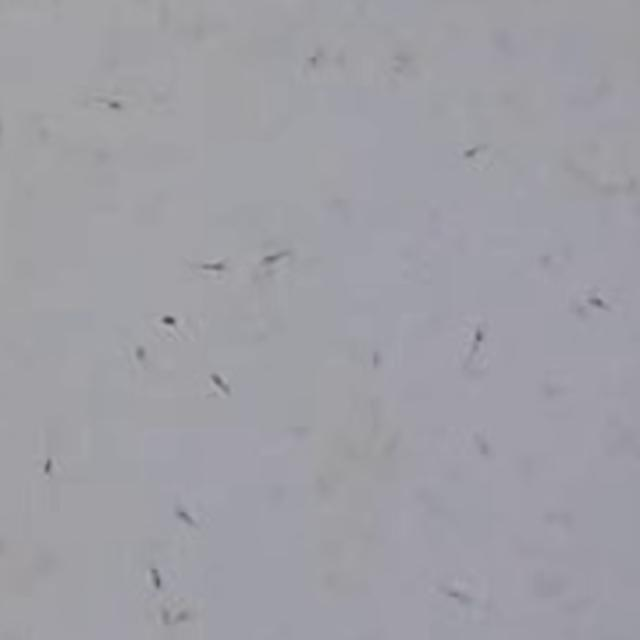shrimp-seed: (167, 486, 224, 544), (112, 332, 160, 378), (208, 363, 247, 418), (574, 275, 617, 320), (85, 83, 134, 119), (254, 242, 306, 274), (34, 449, 68, 494), (295, 38, 334, 75), (461, 133, 503, 167), (436, 582, 480, 610), (188, 257, 238, 281), (140, 554, 170, 592), (457, 319, 482, 363)
